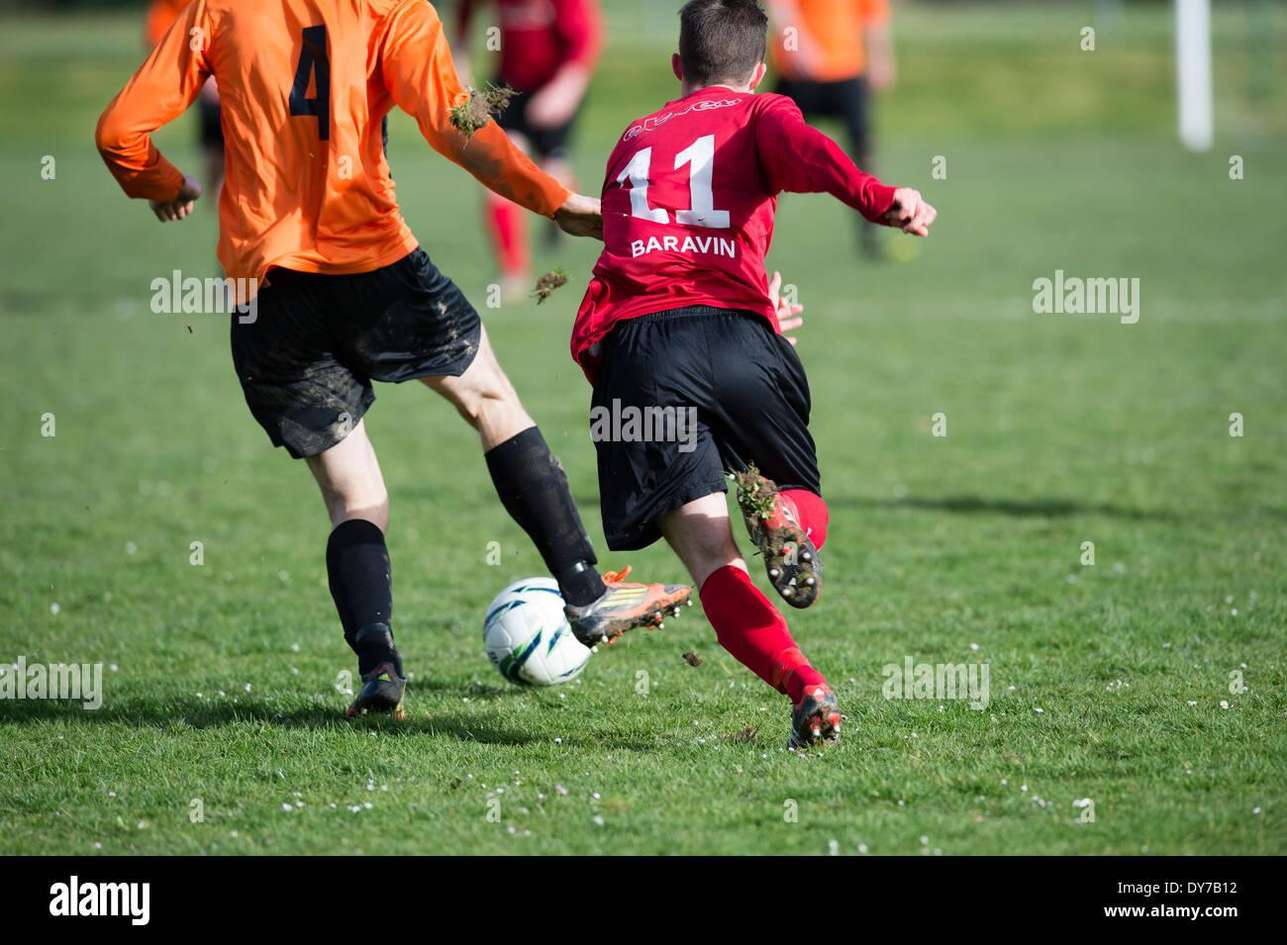ballon_football: (483, 577, 595, 687)
